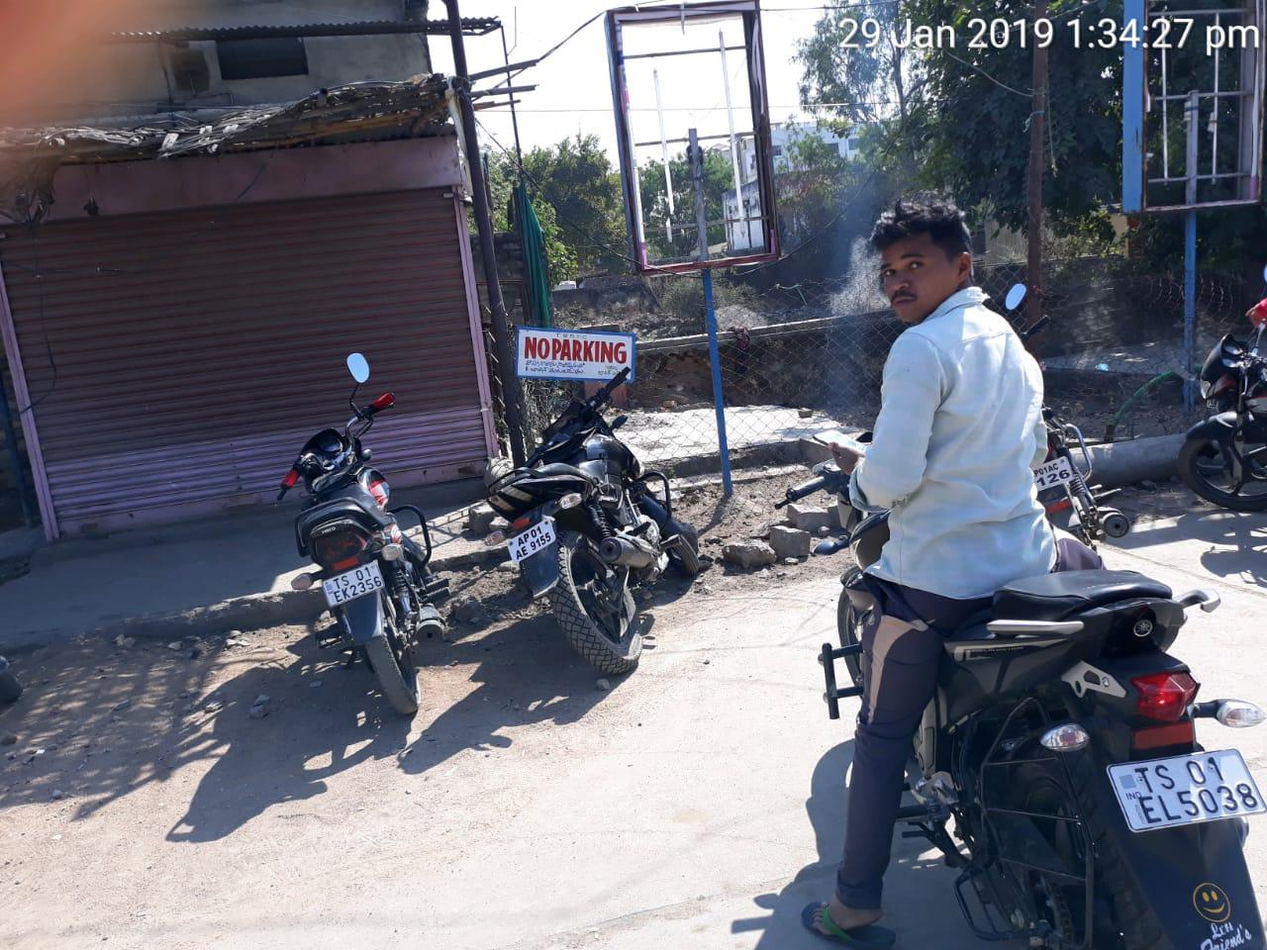plate: (1096, 744, 1263, 824), (305, 558, 393, 606), (499, 516, 567, 562)
